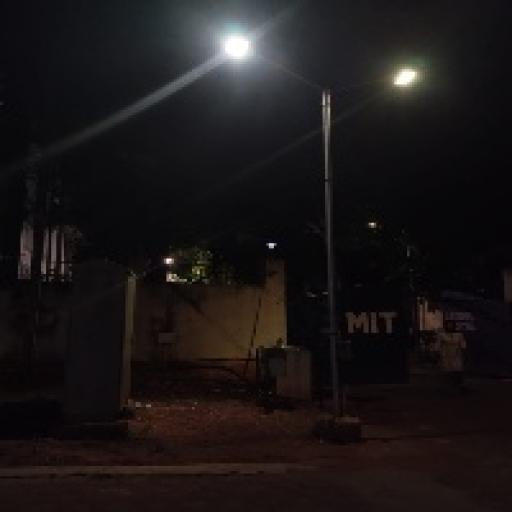Working: (384, 62, 426, 98), (214, 32, 258, 66)
